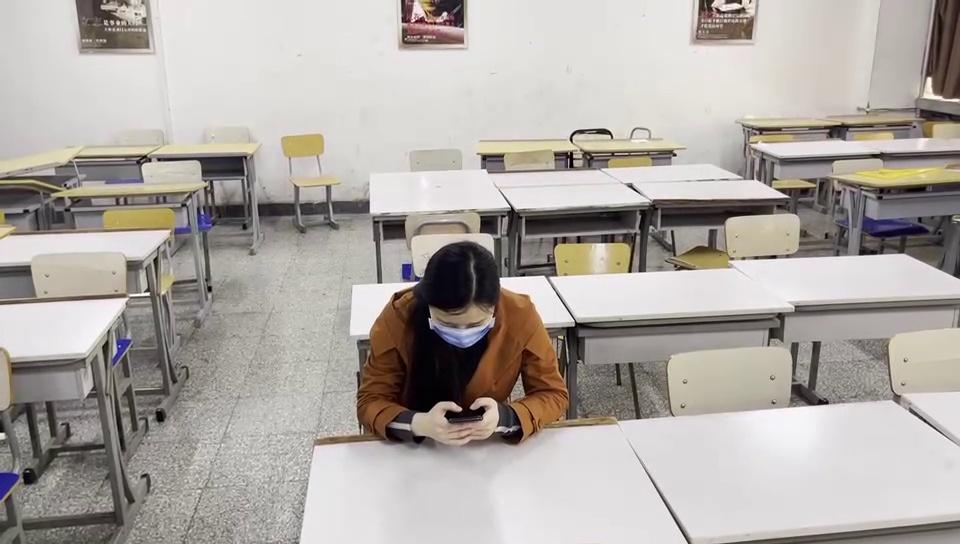phone: (355, 241, 569, 447)
